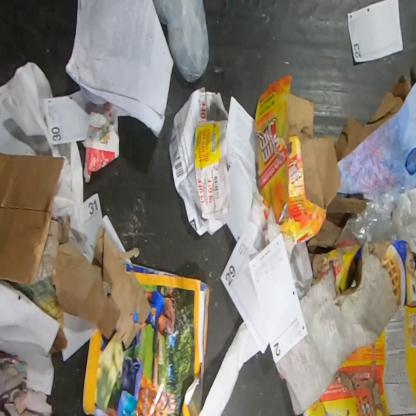cardboard: (275, 240, 415, 415), (288, 74, 412, 210), (254, 73, 326, 244), (0, 153, 65, 287), (308, 193, 366, 252)
soft_plastic: (336, 187, 415, 263), (152, 0, 210, 83)
